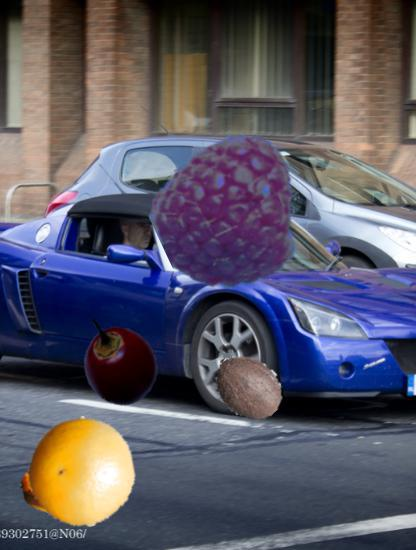Carambula: (20, 454, 94, 528)
Cocos: (212, 351, 285, 424)
Grapefruit: (26, 417, 137, 528)
Raspberry: (156, 140, 306, 290)
Tamarillo: (74, 321, 160, 407)
